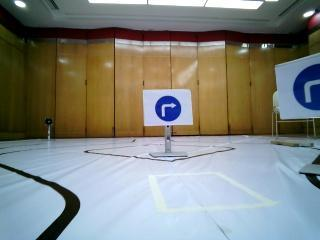right: (277, 61, 320, 119), (143, 90, 194, 126)
